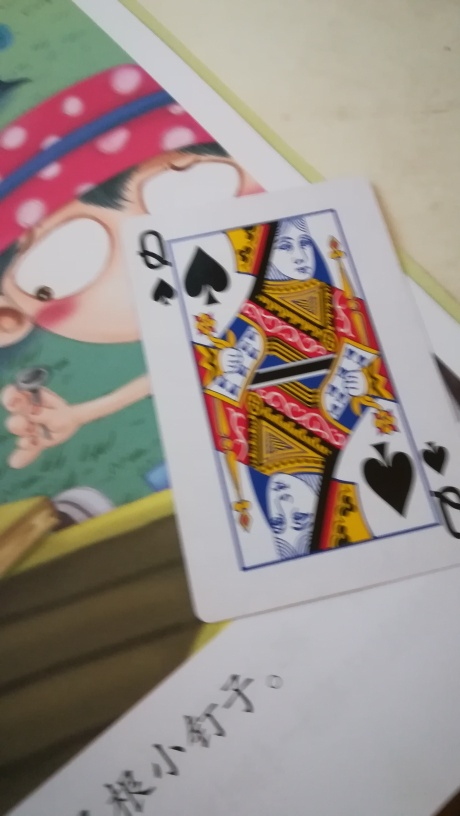ht q: (119, 173, 460, 626)
